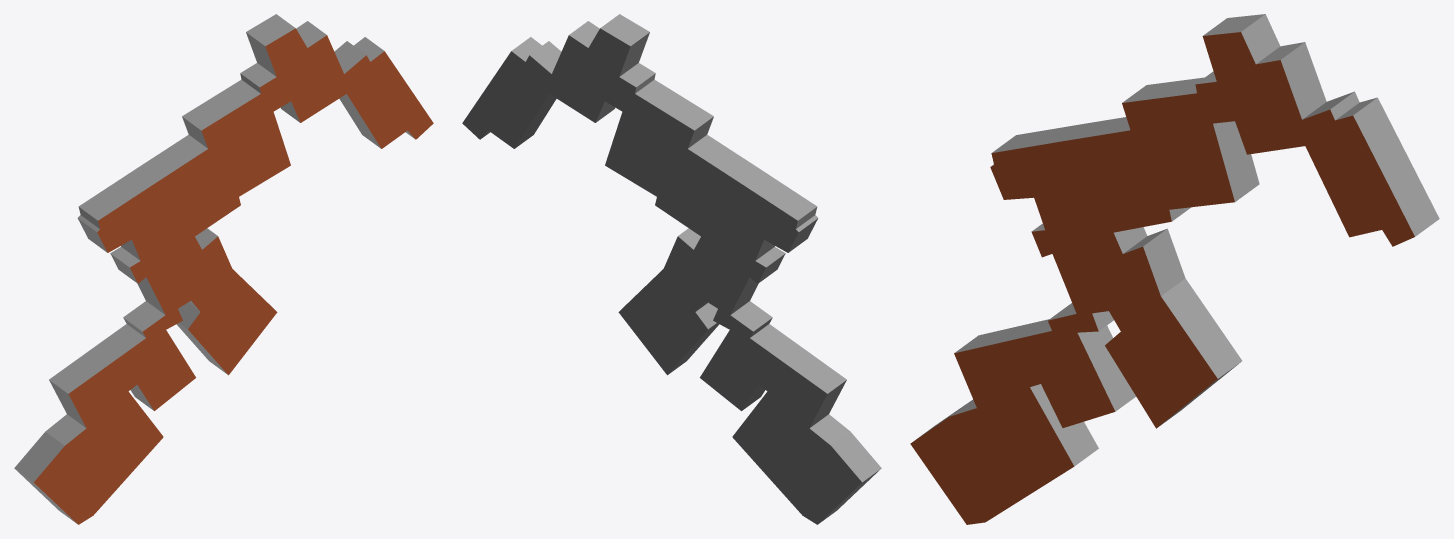
File: construction_1989_assumed_A_Casa_h6m.obj
The picture shows the model from 3 angles, left to right: view 1: azimuth 30°, elevation 25°; view 2: azimuth 150°, elevation 25°; view 3: azimuth 330°, elevation 25°; orthographic projection. The views are drawn at different scales.
Visible parts, largest first — view 1: construction_1989_assumed_A_Casa; view 2: construction_1989_assumed_A_Casa; view 3: construction_1989_assumed_A_Casa.
Boxes of the visible parts, x1,y1,x2,y2 form: construction_1989_assumed_A_Casa: (14, 14, 433, 524); construction_1989_assumed_A_Casa: (462, 14, 881, 524); construction_1989_assumed_A_Casa: (910, 14, 1439, 524).
Size of the model in its own units: 71.02 by 75.25 by 6.
